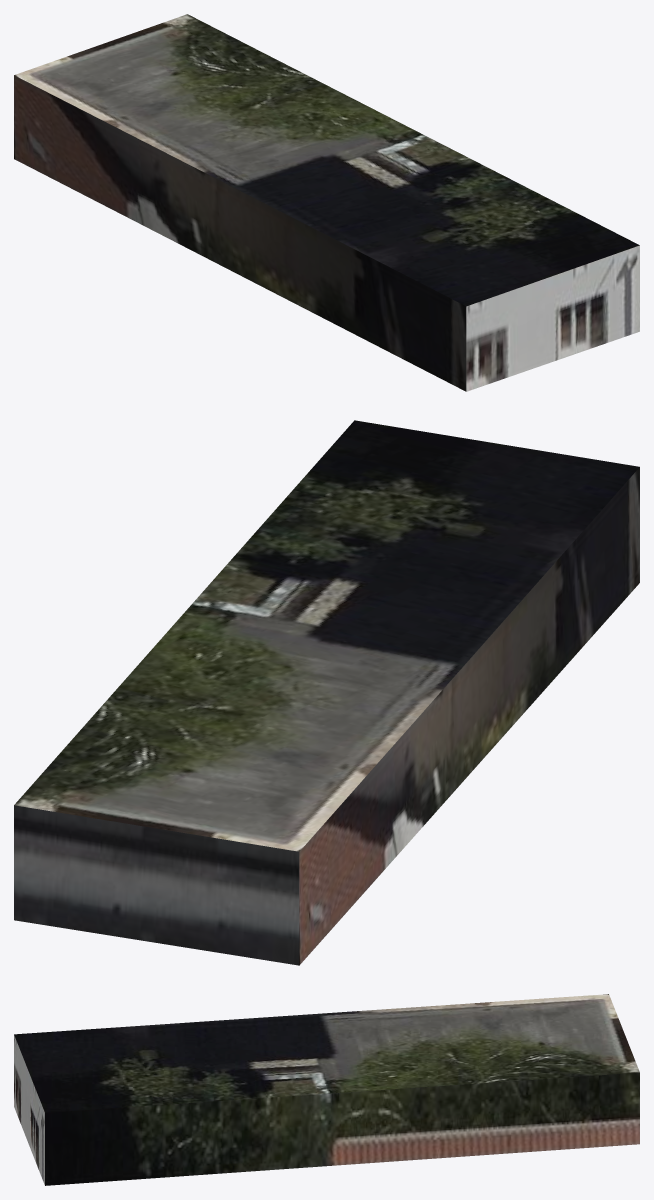
3 views of the same model, one above another, from view 1: azimuth 30°, elevation 25°; view 2: azimuth 150°, elevation 25°; view 3: azimuth 270°, elevation 25° (orthographic). The views are drawn at different scales.
Visible parts, largest first — view 1: Z_UP; view 2: Z_UP; view 3: Z_UP.
Part boxes in pixels (box(x1,y1,x2,y2)): Z_UP: box(14, 14, 639, 391); Z_UP: box(14, 420, 639, 965); Z_UP: box(14, 994, 639, 1185).
Size of the model in its own units: 8.2 by 2.31 by 17.96.
2 materials, 1 textured.
